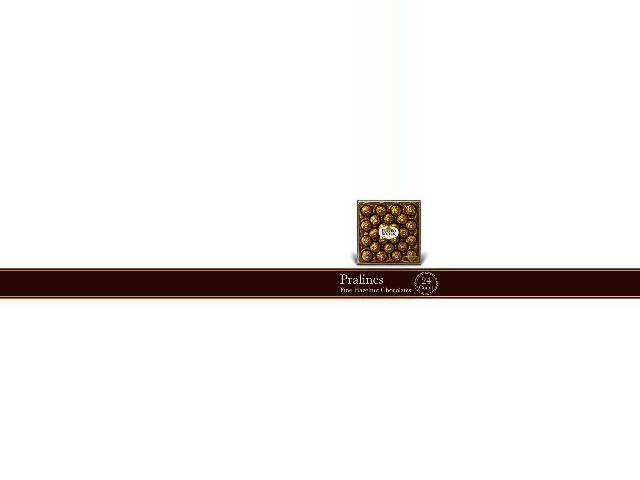chocolate: (354, 195, 425, 268)
